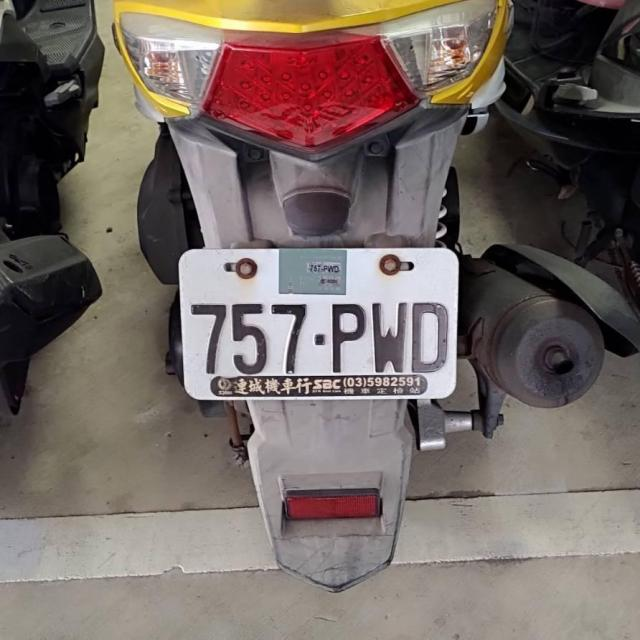W: (174, 240, 463, 405)
